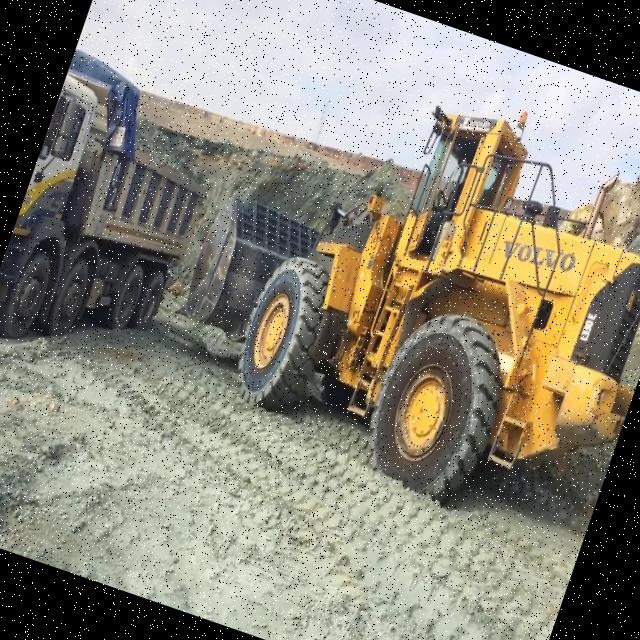Dump Truck: (0, 45, 239, 388)
Loader: (144, 22, 640, 556)
